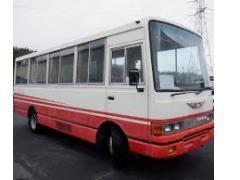bus: (16, 15, 211, 164)
